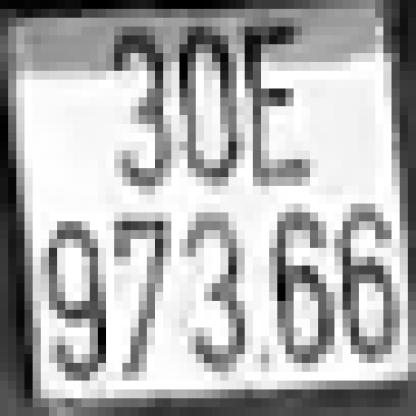0: (171, 26, 237, 186)
3: (114, 26, 171, 194), (180, 203, 236, 363)
6: (261, 203, 326, 363), (326, 204, 392, 354)
7: (114, 212, 171, 363)
9: (49, 212, 106, 372)
E: (236, 18, 302, 186)
